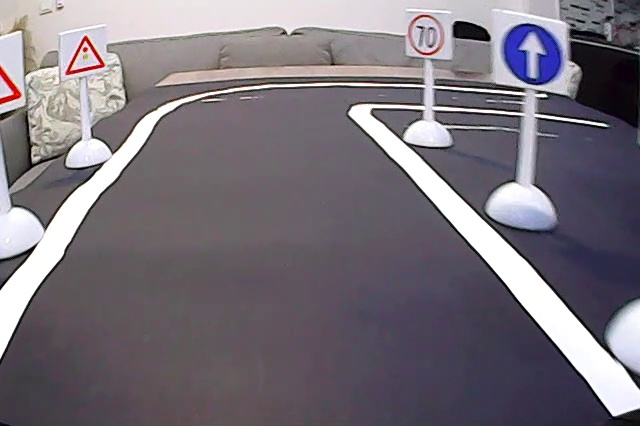red light: (62, 31, 105, 74)
speed limit 70: (408, 10, 449, 57)
